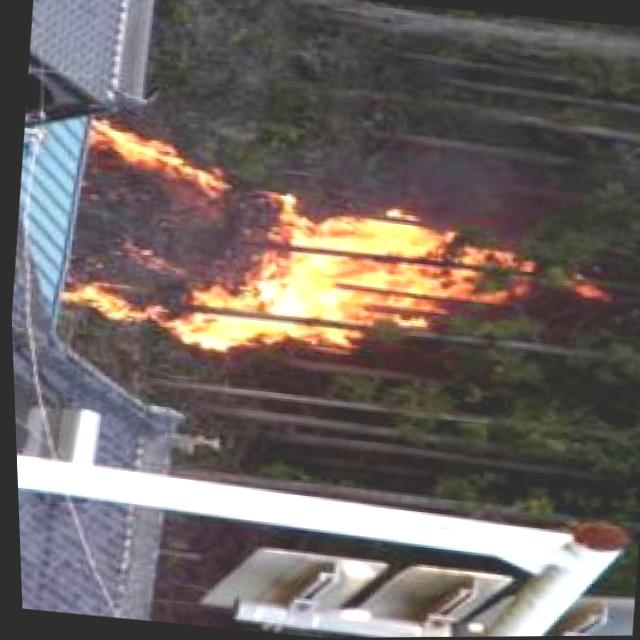helmet: (58, 121, 537, 379)
